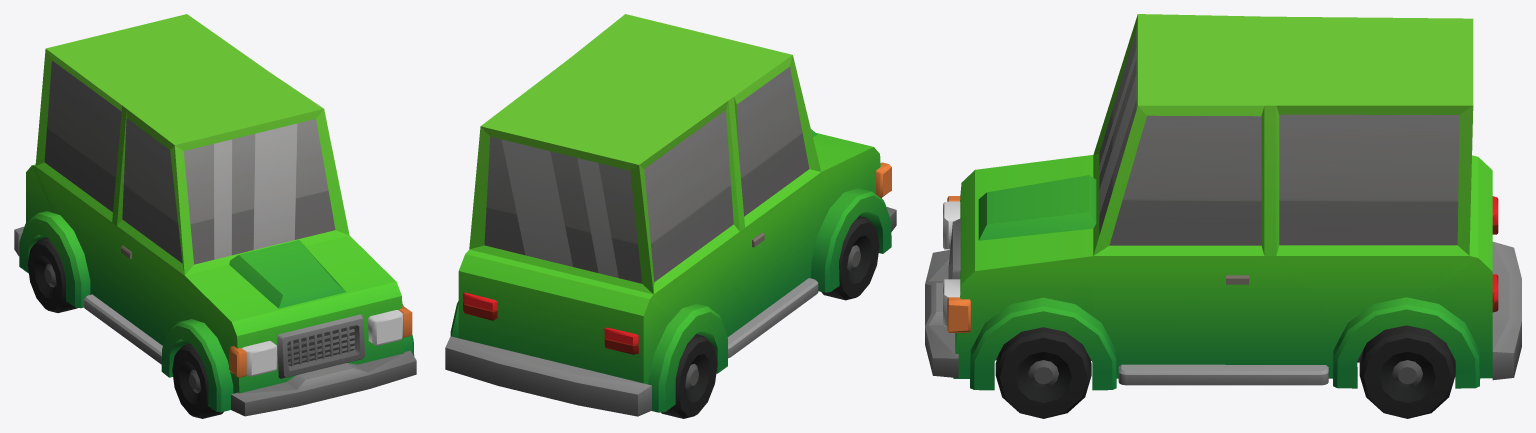
File: Car_5_8.fbx
3 renders of one model, left to right at view 1: azimuth 30°, elevation 25°; view 2: azimuth 150°, elevation 25°; view 3: azimuth 270°, elevation 25°, orthographic. The views are drawn at different scales.
Visible parts, largest first — view 1: Car_5_8, W_br, W_fr; view 2: Car_5_8, W_br, W_fr; view 3: Car_5_8, W_bl, W_fl.
Boxes of the visible parts, <box> form: Car_5_8: <box>14,14,416,416</box>; W_br: <box>27,237,77,312</box>; W_fr: <box>172,343,223,418</box>; Car_5_8: <box>445,14,896,416</box>; W_br: <box>661,334,717,418</box>; W_fr: <box>821,216,879,300</box>; Car_5_8: <box>925,14,1521,390</box>; W_bl: <box>1359,325,1455,418</box>; W_fl: <box>995,327,1091,418</box>.
Bounding box in the file's own units: 113 × 130 × 233.
